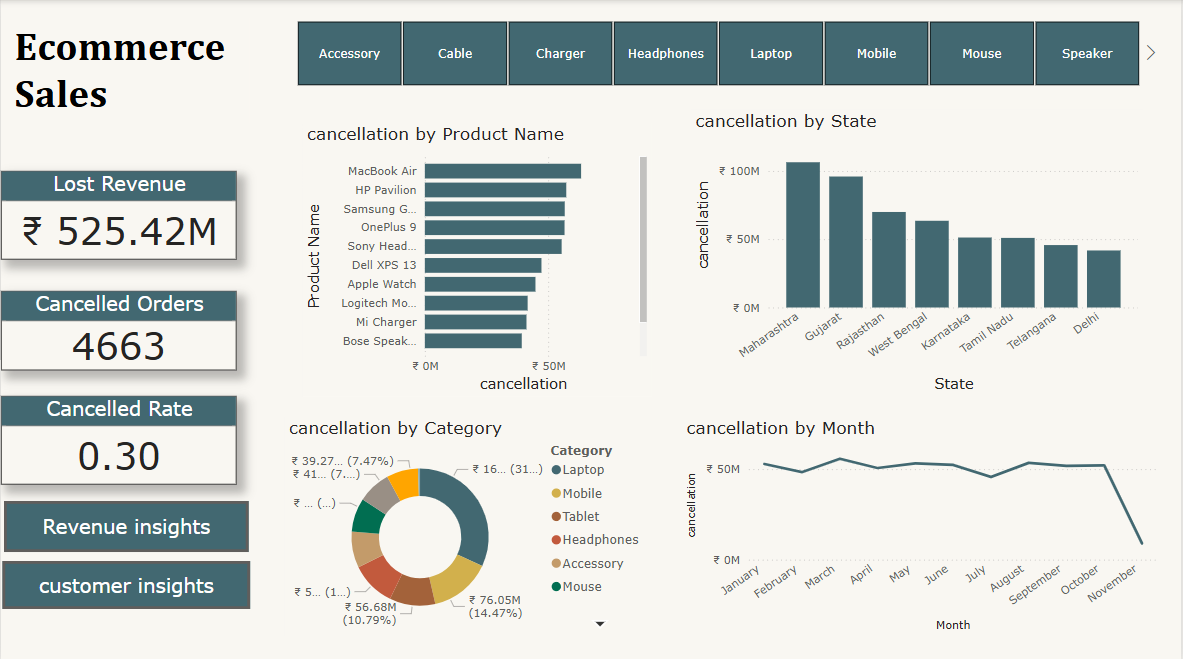

The page's visual inventory and layout, read from the dashboard file:
{"tool":"powerbi","page":{"name":"cancellation_insights","canvas":[1280,720],"ordinal":2},"visuals":[{"type":"card","title":"Lost Revenue","fields":{"Values":["Table.cancellation"]},"box":[0,185.4,255.4,96],"z":0},{"type":"slicer","fields":{"Values":["products.Category"]},"box":[296.7,17,961.9,83.2],"z":1000},{"type":"card","title":"Cancelled Orders","fields":{"Values":["Table.cancelled_orders"]},"box":[0,315.5,255.4,86.2],"z":2000},{"type":"card","title":"Cancelled Rate","fields":{"Values":["Table.cancelled_rate"]},"box":[0,429.4,255.4,96],"z":3000},{"type":"barChart","fields":{"Y":["Table.cancellation"],"Category":["products.Product Name"]},"box":[326.6,133.4,378.4,296.8],"z":4000},{"type":"columnChart","fields":{"Y":["Table.cancellation"],"Category":["customers.State"]},"box":[748.9,119.5,490,310.7],"z":5000},{"type":"lineChart","fields":{"Y":["Table.cancellation"],"Category":["orders.Date and time of purchase.Variation.Date Hierarchy.Year","orders.Date and time of purchase.Variation.Date Hierarchy.Quarter","orders.Date and time of purchase.Variation.Date Hierarchy.Month","orders.Date and time of purchase.Variation.Date Hierarchy.Day"]},"box":[738.9,452.1,519.8,237],"z":6000},{"type":"donutChart","fields":{"Y":["Table.cancellation"],"Category":["products.Category"]},"box":[306.7,452.1,398.3,237],"z":7000},{"type":"actionButton","box":[3.3,543.3,265.1,55.3],"z":8000},{"type":"actionButton","box":[1.6,608.3,268.4,52],"z":9000},{"type":"textbox","box":[9.8,19.5,260.2,113.9],"z":10000}]}

Visuals, with their boxes in screenshot pixels (x1, y1, x2, y2), scaled from the page's 1280x720 canvas onto the 1183x659 screenshot:
"Lost Revenue" card: left=0, top=170, right=236, bottom=258
slicer - products.Category: left=274, top=16, right=1163, bottom=92
"Cancelled Orders" card: left=0, top=289, right=236, bottom=368
"Cancelled Rate" card: left=0, top=393, right=236, bottom=481
barChart - Table.cancellation x products.Product Name: left=302, top=122, right=652, bottom=394
columnChart - Table.cancellation x customers.State: left=692, top=109, right=1145, bottom=394
lineChart - Table.cancellation x orders.Date and time of purchase.Variation.Date Hierarchy.Year: left=683, top=414, right=1163, bottom=631
donutChart - Table.cancellation x products.Category: left=283, top=414, right=652, bottom=631
actionButton: left=3, top=497, right=248, bottom=548
actionButton: left=1, top=557, right=250, bottom=604
textbox: left=9, top=18, right=250, bottom=122
